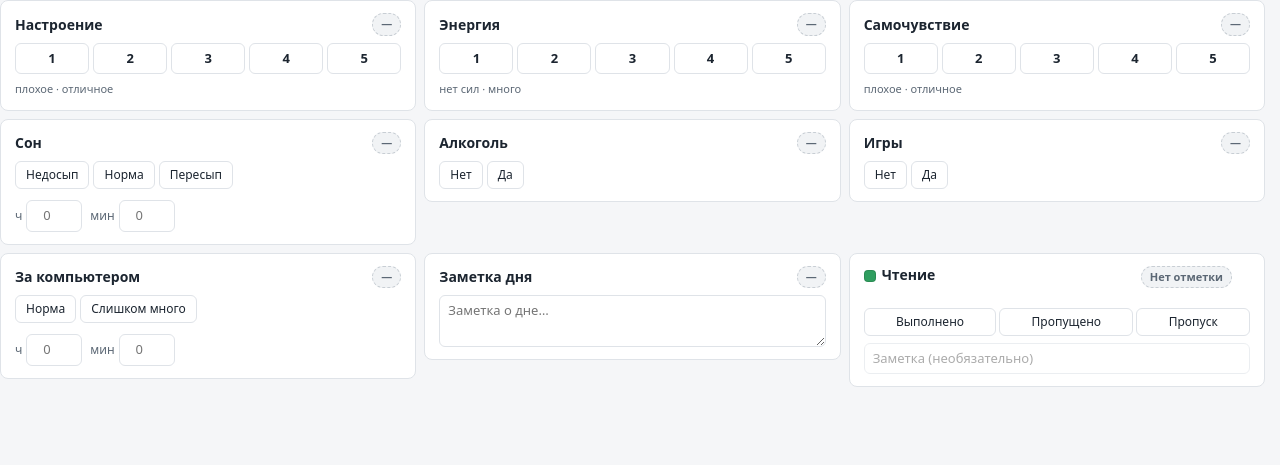
Test: independent check-in card lifecycle › OK completes Настроение immediately and exactly once
Expected: the text "Настроение" is shown, top-left (15, 15), bottom-right (102, 34)
Click the button "4" below "Настроение" at (286, 58), box top-left (249, 42), bottom-right (323, 74)
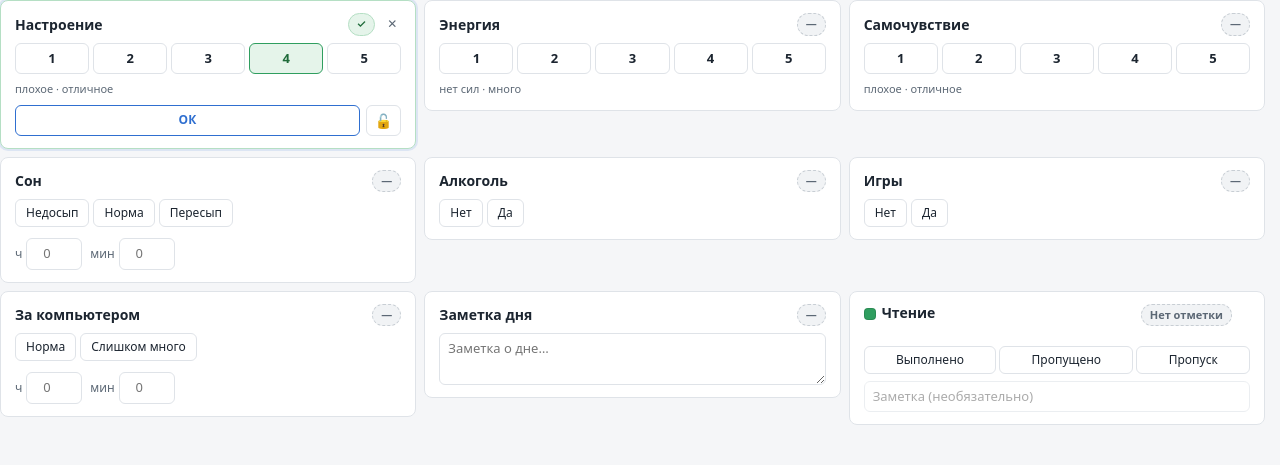
Now the button "ОК" is enabled
Click the button "ОК" at (187, 120), box top-left (15, 104), bottom-right (360, 136)
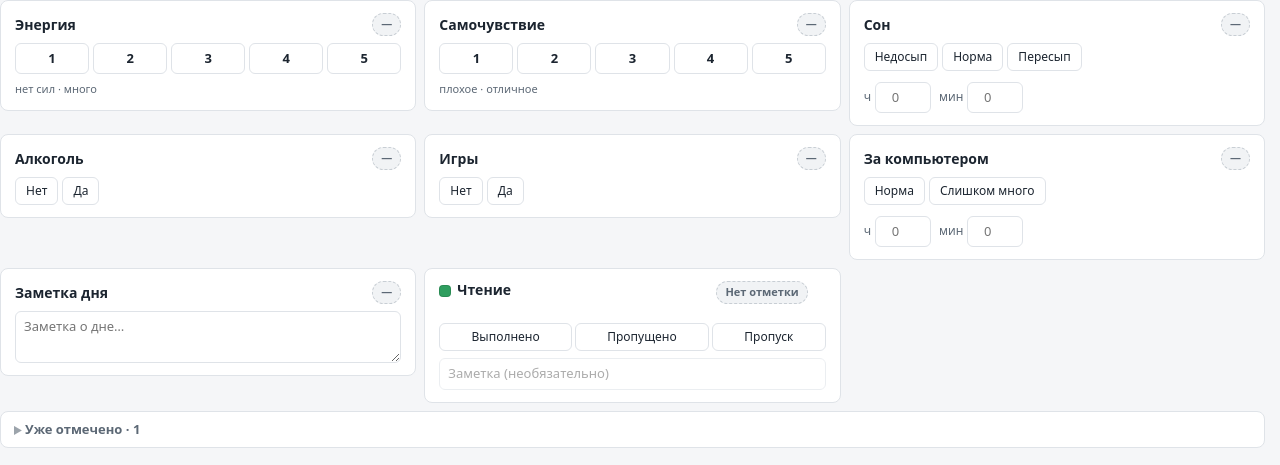
Now the element named "Настроение" is shown, box top-left (0, 410), bottom-right (1265, 448)
Now the heading "Уже отмечено · 1" is shown, box top-left (25, 420), bottom-right (140, 438)
